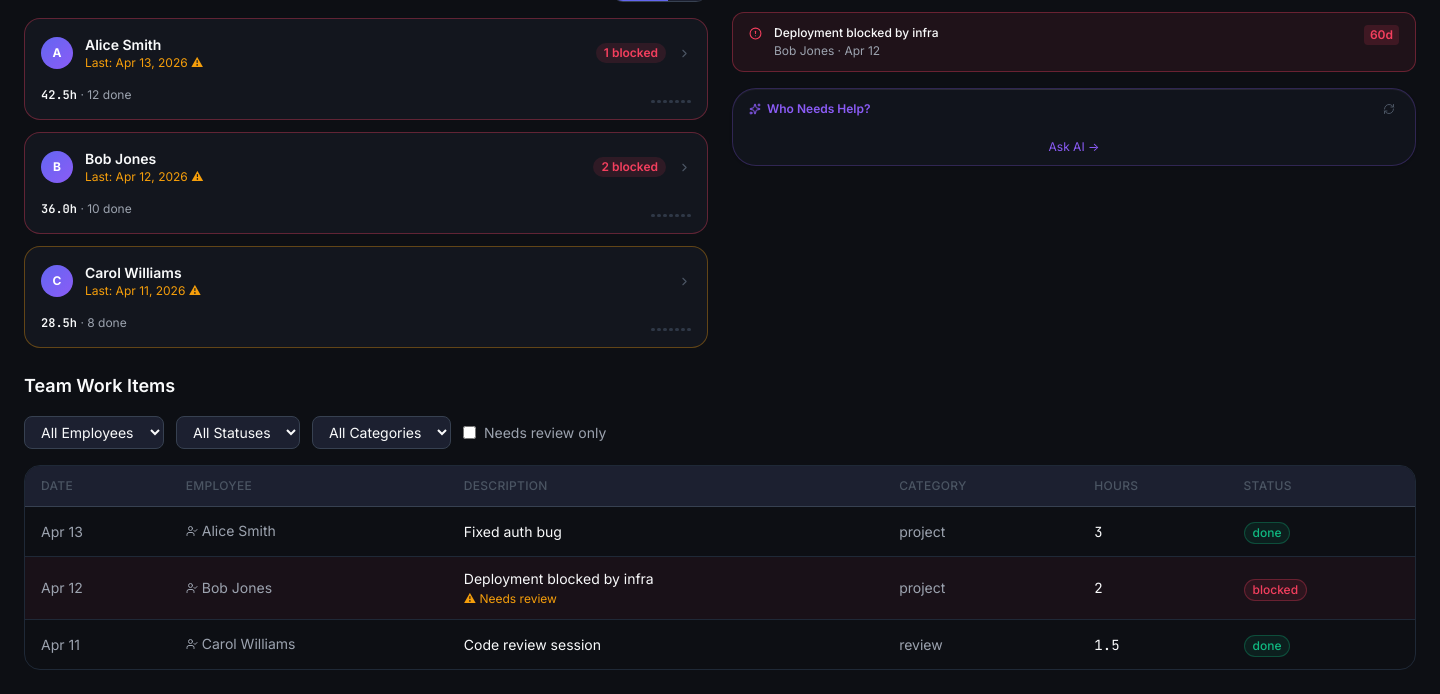
TeamDashboardPage — team work items table › needs review filter toggle shows only flagged items
(page scrolled)
Expected: the text "Fixed auth bug" is shown, [464,522,562,540]
Click the checkbox labelled "Needs review only".
click(470, 432)  # box [463,426,476,439]
(page scrolled)
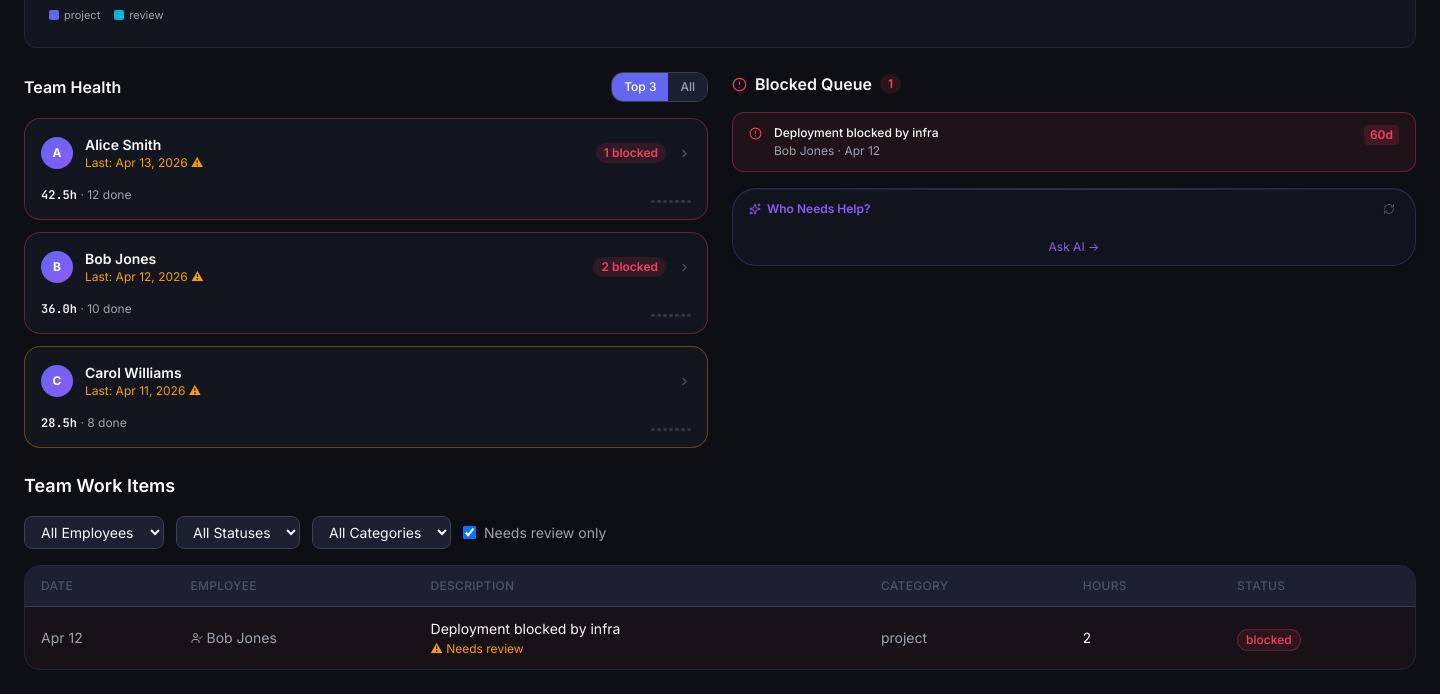
Expected: the text "Deployment blocked by infra" below "Blocked Queue" is shown, [774,125,938,140]
Expected: the text "Fixed auth bug" is gone
